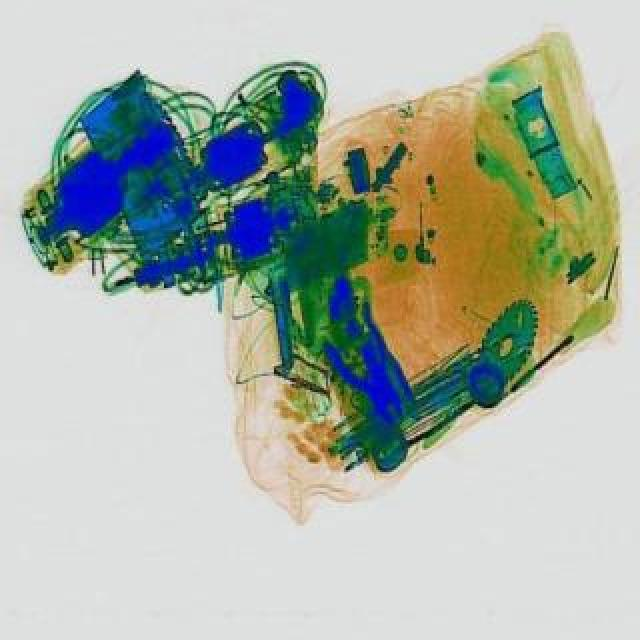wrench: (310, 304, 430, 438)
